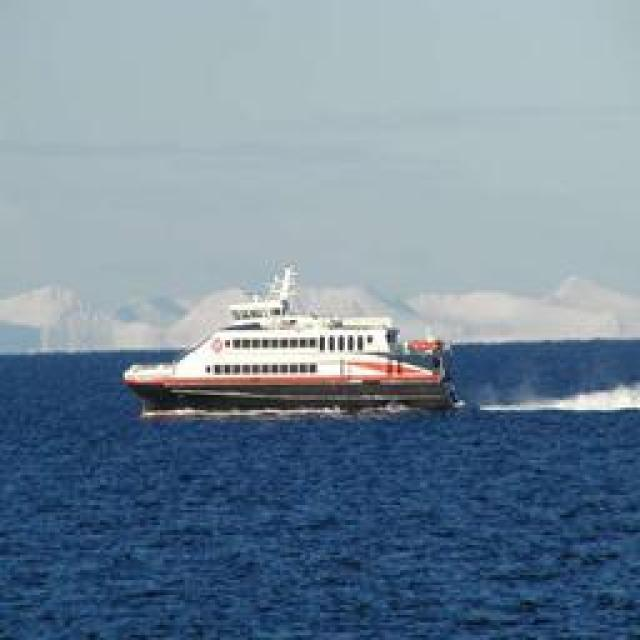ship2: (123, 259, 463, 416)
